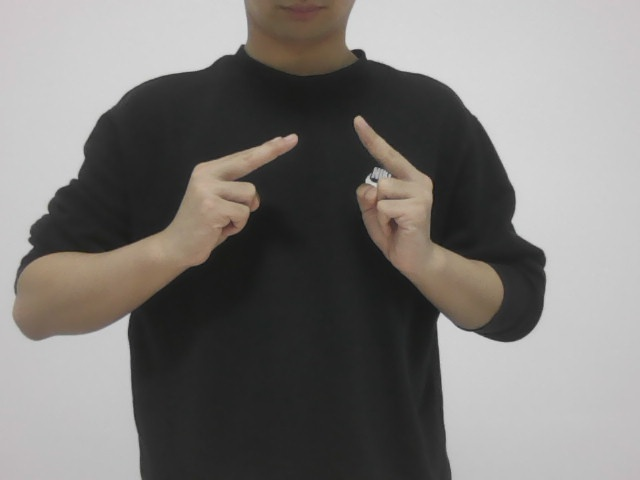know: (159, 113, 440, 289)
